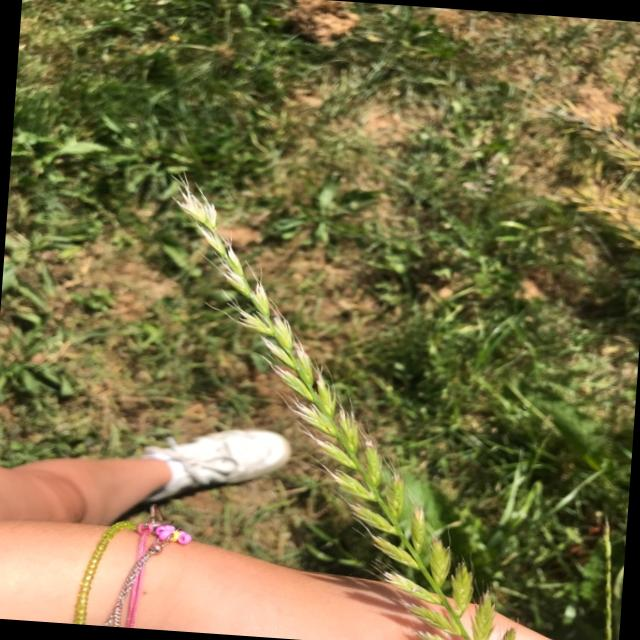Lolium: (132, 169, 545, 640)
